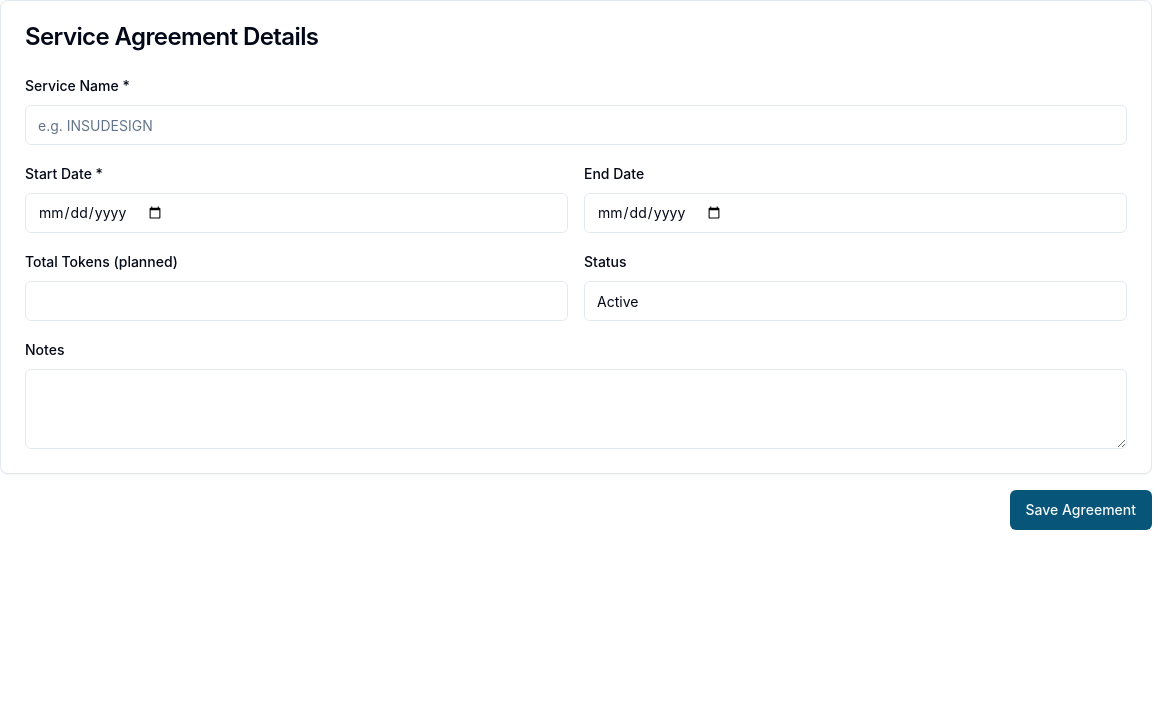
Test case: AgreementForm › shows required-field errors
Click the button "Save Agreement": (1081,510) [1010, 490, 1152, 530]
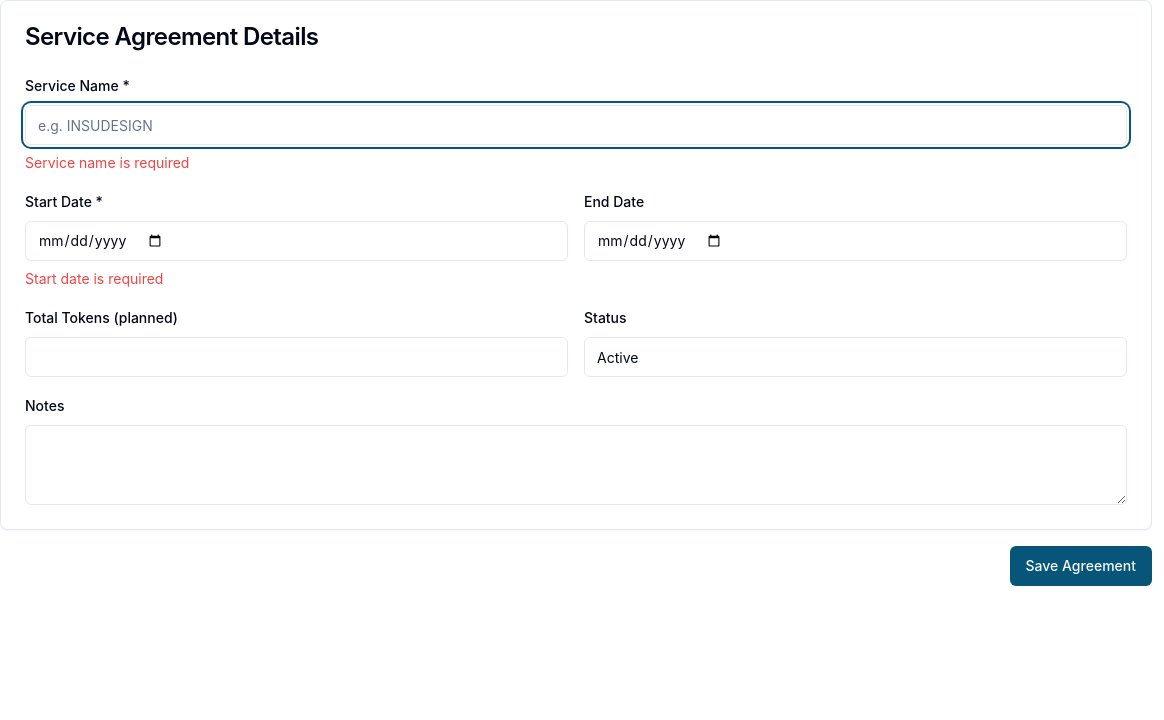
Check: the text "Service name is required" is shown, box [25, 154, 189, 171]
Check: the text "Start date is required" is shown, box [25, 270, 163, 287]
